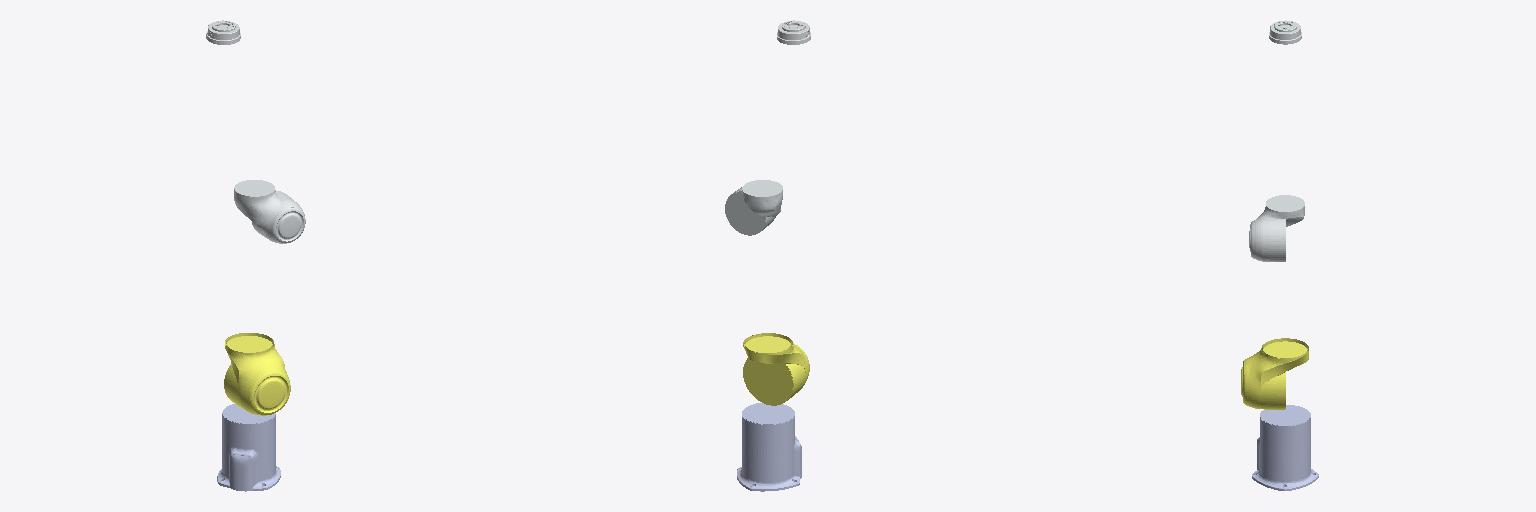
The robot description file, URDF, robot "diana":
<?xml version="1.0" encoding="utf-8"?>
<robot
  name="diana">
<mujoco>
      <compiler 
      meshdir="meshes/combined" 
      balanceinertia="true" 
      discardvisual="false" />
</mujoco>
  <link name="base" xmlns:xacro="http://www.ros.org/wiki/xacro">
    <inertial>
      <origin
        xyz="0.00153097191906452 0.00152031034664837 0.0524230280849149"
        rpy="0 0 0" />
      <mass
        value="1.33110743457779" />
      <inertia
        ixx="0.00695879790529406"
        ixy="9.99328685258342E-05"
        ixz="7.99577031212481E-05"
        iyy="0.00695365531716522"
        iyz="7.90796997368543E-05"
        izz="0.00729823323321907" />
    </inertial>
    <visual>
      <origin
        xyz="0 0 0"
        rpy="0 0 0" />
      <geometry>
        <mesh
          filename="visual_base.stl" />
      </geometry>
      <material
        name="">
        <color
          rgba="0.796078431372549 0.823529411764706 0.937254901960784 1" />
      </material>
    </visual>
    <collision>
      <origin
        xyz="0 0 0"
        rpy="0 0 0" />
      <geometry>
        <mesh
          filename="collision_base.stl" />
      </geometry>
    </collision>
  </link>
  <link
    name="link_1">
    <inertial>
      <origin
        xyz="5.5234067920554E-05  -0.0254878204920178 0.0355441421264809"
        rpy="0 0 0" />
      <mass
        value="1.09025546409174" />
      <inertia
        ixx="0.00585031196428369"
        ixy="1.4630349447555E-07"
        ixz="1.35351687162397E-06"
        iyy="0.00645496952227061"
        iyz="-0.00104800484741808"
        izz="0.00459531291521244" />
    </inertial>
    <visual>
      <origin
        xyz="0 0 0"
        rpy="3.1415926531795866 0 0" />
      <geometry>
        <mesh
          filename="visual_link_1.stl" />
      </geometry>
      <material
        name="">
        <color
          rgba="0.796078431372549 0.823529411764706 0.937254901960784 1" />
      </material>
    </visual>
    <collision>
      <origin
        xyz="0 0 0"
        rpy="3.1415926531795866 0 0" />
      <geometry>
        <mesh
          filename="collision_link_1.stl" />
      </geometry>
    </collision>
  </link>
  <joint
    name="joint_1"
    type="revolute">
    <origin
      xyz="0.0 -1.1715507836795716e-10 0.2856"
      rpy="-3.1415926531795866 0.0 -0.0" />
    <parent
      link="base" />
    <child
      link="link_1" />
    <axis
      xyz="0 0 1" />
    <limit
      lower="-3.12"
      upper="3.12"
      effort="235"
      velocity="2.618" />
  </joint>
  <link
    name="link_2">
    <inertial>
      <origin
        xyz="-3.62724763868157E-06 -0.0292741005087307 -0.041280769252073"
        rpy="0 0 0" />
      <mass
        value="1.09515454908799" />
      <inertia
        ixx="0.00575817488413533"
        ixy="4.92454490330888E-07"
        ixz="-5.75758988171004E-07"
        iyy="0.00452592941277235"
        iyz="0.00135206824645357"
        izz="0.0058904584276842" />
    </inertial>
    <visual>
      <origin
        xyz="0 0 0"
        rpy="0 0 0" />
      <geometry>
        <mesh
          filename="visual_link_2.stl" />
      </geometry>
      <material
        name="">
        <color
          rgba="0.980392156862745 0.980392156862745 0.470588235294118 1" />
      </material>
    </visual>
    <collision>
      <origin
        xyz="0 0 0"
        rpy="0 0 0" />
      <geometry>
        <mesh
          filename="collision_link_2.stl" />
      </geometry>
    </collision>
  </link>
  <joint
    name="joint_2"
    type="revolute">
    <origin
      xyz="0.0005862573385 -0.00014782485495212482 -1.9207652955671537e-08"
      rpy="1.57092626436801 -0.006037262313035355 -7.844624521808898e-07" />
    <parent
      link="link_1" />
    <child
      link="link_2" />
    <axis
      xyz="0 0 1" />
    <limit
      lower="-1.57"
      upper="1.57"
      effort="235"
      velocity="2.618" />
  </joint>
  <link
    name="link_3">
    <inertial>
      <origin
        xyz="0.0114318213510691 -0.0101707598694861 0.15131695375217"
        rpy="0 3.1415926531795866 3.1415926531795866" />
      <mass
        value="2.01686690128149" />
      <inertia
        ixx="0.0362470020041464"
        ixy="-0.00099203786071914"
        ixz="-0.00494440140493448"
        iyy="0.0374857206758098"
        iyz="-0.00313859974095155"
        izz="0.00905850119342719" />
    </inertial>
    <visual>
      <origin
        xyz="0 0 0"
        rpy="3.1415926531795866 0 0" />
      <geometry>
        <mesh
          filename="visual_link_3.stl" />
      </geometry>
      <material
        name="">
        <color
          rgba="0.898039215686275 0.917647058823529 0.929411764705882 1" />
      </material>
    </visual>
    <collision>
      <origin
        xyz="0 0 0"
        rpy="3.1415926531795866 0 0" />
      <geometry>
        <mesh
          filename="collision_link_3.stl" />
      </geometry>
    </collision>
  </link>
  <joint
    name="joint_3"
    type="revolute">
    <origin
      xyz="-0.000221599674 -0.45873900013566615 0.00012215632910532866"
      rpy="-1.5710626175208562 -0.005142349645679273 1.369354017489328e-06" />
    <parent
      link="link_2" />
    <child
      link="link_3" />
    <axis
      xyz="0 0 1" />
    <limit
      lower="-3.12"
      upper="3.12"
      effort="111"
      velocity="3.1416" />
  </joint>
  <link
    name="link_4">
    <inertial>
      <origin
        xyz="-0.0240716370537192 -0.0235631728011761 -0.0366858174253844"
        rpy="0 0 0" />
      <mass
        value="0.849743349506889" />
      <inertia
        ixx="0.00313444335639628"
        ixy="-0.000681243351041131"
        ixz="0.000725380047812207"
        iyy="0.00333717642442852"
        iyz="0.000771057559109157"
        izz="0.0034847726349841" />
    </inertial>
    <visual>
      <origin
        xyz="0 0 0"
        rpy="0 0 0" />
      <geometry>
        <mesh
          filename="visual_link_4.stl" />
      </geometry>
      <material
        name="">
        <color
          rgba="0.898039215686275 0.917647058823529 0.929411764705882 1" />
      </material>
    </visual>
    <collision>
      <origin
        xyz="0 0 0"
        rpy="0 0 0" />
      <geometry>
        <mesh
          filename="collision_link_4.stl" />
      </geometry>
    </collision>
  </link>
  <joint
    name="joint_4"
    type="revolute">
    <origin
      xyz="0.06541350239 5.969309933120634e-05 -1.2161203358645746e-08"
      rpy="1.5705925941077288 -0.006181400405717547 1.2593453126349397e-06" />
    <parent
      link="link_3" />
    <child
      link="link_4" />
    <axis
      xyz="0 0 1" />
    <limit
      lower="0"
      upper="3.05"
      effort="111"
      velocity="3.1416" />
  </joint>
  <link
    name="link_5">
    <inertial>
      <origin
        xyz="-0.00867148011164554 0.0383499684802812 0.188626"
        rpy="0 3.1415926531795866 3.1415926531795866" />
      <mass
        value="1.20580396965245" />
      <inertia
        ixx="0.0218436427570802"
        ixy="-0.000309747330693722"
        ixz="0.00089039094846826"
        iyy="0.0205896836785318"
        iyz="0.00493573923914426"
        izz="0.00372270106038425" />
    </inertial>
    <visual>
      <origin
        xyz="0 0 -0.02162"
        rpy="3.1415926531795866 0 0" />
      <geometry>
        <mesh
          filename="visual_link_5.stl" />
      </geometry>
      <material
        name="">
        <color
          rgba="0.898039215686275 0.917647058823529 0.929411764705882 1" />
      </material>
    </visual>
    <collision>
      <origin
        xyz="0 0 -0.02162"
        rpy="3.1415926531795866 0 0" />
      <geometry>
        <mesh
          filename="collision_link_5.stl" />
      </geometry>
    </collision>
  </link>
  <joint
    name="joint_5"
    type="revolute">
    <origin
      xyz="-0.05282664836 -0.45495749602433105 0.0004202289833435953"
      rpy="-1.5717199976380511 0.0031690147691578493 -2.927122476880115e-06" />
    <parent
      link="link_4" />
    <child
      link="link_5" />
    <axis
      xyz="0 0 1" />
    <limit
      lower="-3.12"
      upper="3.12"
      effort="54"
      velocity="2.618" />
  </joint>
  <link
    name="link_6">
    <inertial>
      <origin
        xyz="0.045897226241036 0.00848579821002571 -0.0078257811617596"
        rpy="0 3.1415926531795866 3.1415926531795866" />
      <mass
        value="0.847157564562275" />
      <inertia
        ixx="0.00286926864109097"
        ixy="-0.000341664135091818"
        ixz="-0.000318082297486923"
        iyy="0.0043294660443987"
        iyz="-5.82962380662208E-05"
        izz="0.00437292566725527" />
    </inertial>
    <visual>
      <origin
        xyz="0 0 0"
        rpy="3.1415926531795866 0 3.14159265359" />
      <geometry>
        <mesh
          filename="visual_link_6.stl" />
      </geometry>
      <material
        name="">
        <color
          rgba="0.980392156862745 0.980392156862745 0.470588235294118 1" />
      </material>
    </visual>
    <collision>
      <origin
        xyz="0 0 0"
        rpy="3.1415926531795866 0 3.14159265359" />
      <geometry>
        <mesh
          filename="collision_link_6.stl" />
      </geometry>
    </collision>
  </link>
  <joint
    name="joint_6"
    type="revolute">
    <origin
      xyz="-0.01211691155 -0.0001231537401358605 1.9628022220819176e-08"
      rpy="1.5709557077662104 0.005891691514963694 -3.1415917145717014" />
    <parent
      link="link_5" />
    <child
      link="link_6" />
    <axis
      xyz="0 0 1" />
    <limit
      lower="-3.12"
      upper="0.52"
      effort="54"
      velocity="2.618" />
  </joint>
  <link
    name="link_7">
    <inertial>
      <origin
        xyz="0.00117005127509708 5.03191940906655E-06 0.0151381784822231"
        rpy="0 0 0" />
      <mass
        value="0.233956150459573" />
      <inertia
        ixx="0.000142027360977168"
        ixy="1.76426389345981E-08"
        ixz="2.14635741626268E-07"
        iyy="0.000134421724783865"
        iyz="-1.29988689037464E-09"
        izz="0.000240242798572463" />
    </inertial>
    <visual>
      <origin
        xyz="0 0 0"
        rpy="0 0 0" />
      <geometry>
        <mesh
          filename="visual_link_7.stl" />
      </geometry>
      <material
        name="">
        <color
          rgba="0.898039215686275 0.917647058823529 0.929411764705882 1" />
      </material>
    </visual>
    <collision>
      <origin
        xyz="0 0 0"
        rpy="0 0 0" />
      <geometry>
        <mesh
          filename="collision_link_7.stl" />
      </geometry>
    </collision>
  </link>
  <joint
    name="joint_7"
    type="revolute">
    <origin
      xyz="0.08721799276 -0.11689961862134787 0.00029860707194743184"
      rpy="-1.57335071 0.0 -0.0" />
    <parent
      link="link_6" />
    <child
      link="link_7" />
    <axis
      xyz="0 0 1" />
    <limit
      lower="-3.12"
      upper="3.12"
      effort="54"
      velocity="3.1416" />
  </joint>
</robot>

--- Render facts (derived) ---
3 views of the same robot in one strip: view 1: azimuth 30°, elevation 25°; view 2: azimuth 150°, elevation 25°; view 3: azimuth 270°, elevation 25° (orthographic).
Model diana with 8 links and 7 joints (7 revolute), rooted at base, posed every joint at zero.
Links seen in each view (by area): view 1: base, link_2, link_4, link_7; view 2: base, link_2, link_4, link_7; view 3: base, link_2, link_4, link_7.
Boxes of the visible links, bbox=[...] form: base: bbox=[217, 404, 280, 491]; link_2: bbox=[224, 333, 290, 415]; link_4: bbox=[234, 180, 305, 243]; link_7: bbox=[206, 20, 240, 44]; base: bbox=[737, 403, 801, 491]; link_2: bbox=[743, 333, 809, 405]; link_4: bbox=[725, 180, 782, 235]; link_7: bbox=[777, 20, 810, 44]; base: bbox=[1252, 405, 1318, 490]; link_2: bbox=[1241, 338, 1308, 409]; link_4: bbox=[1249, 195, 1304, 261]; link_7: bbox=[1269, 20, 1301, 44].
Bounding box of the posed robot: 0.2519 × 0.2115 × 1.32 m (x, y, z).
4 mesh visuals loaded from 8 distinct referenced files (4 binary STL); not drawn: 4 (reference not matched to a file when rendering).
